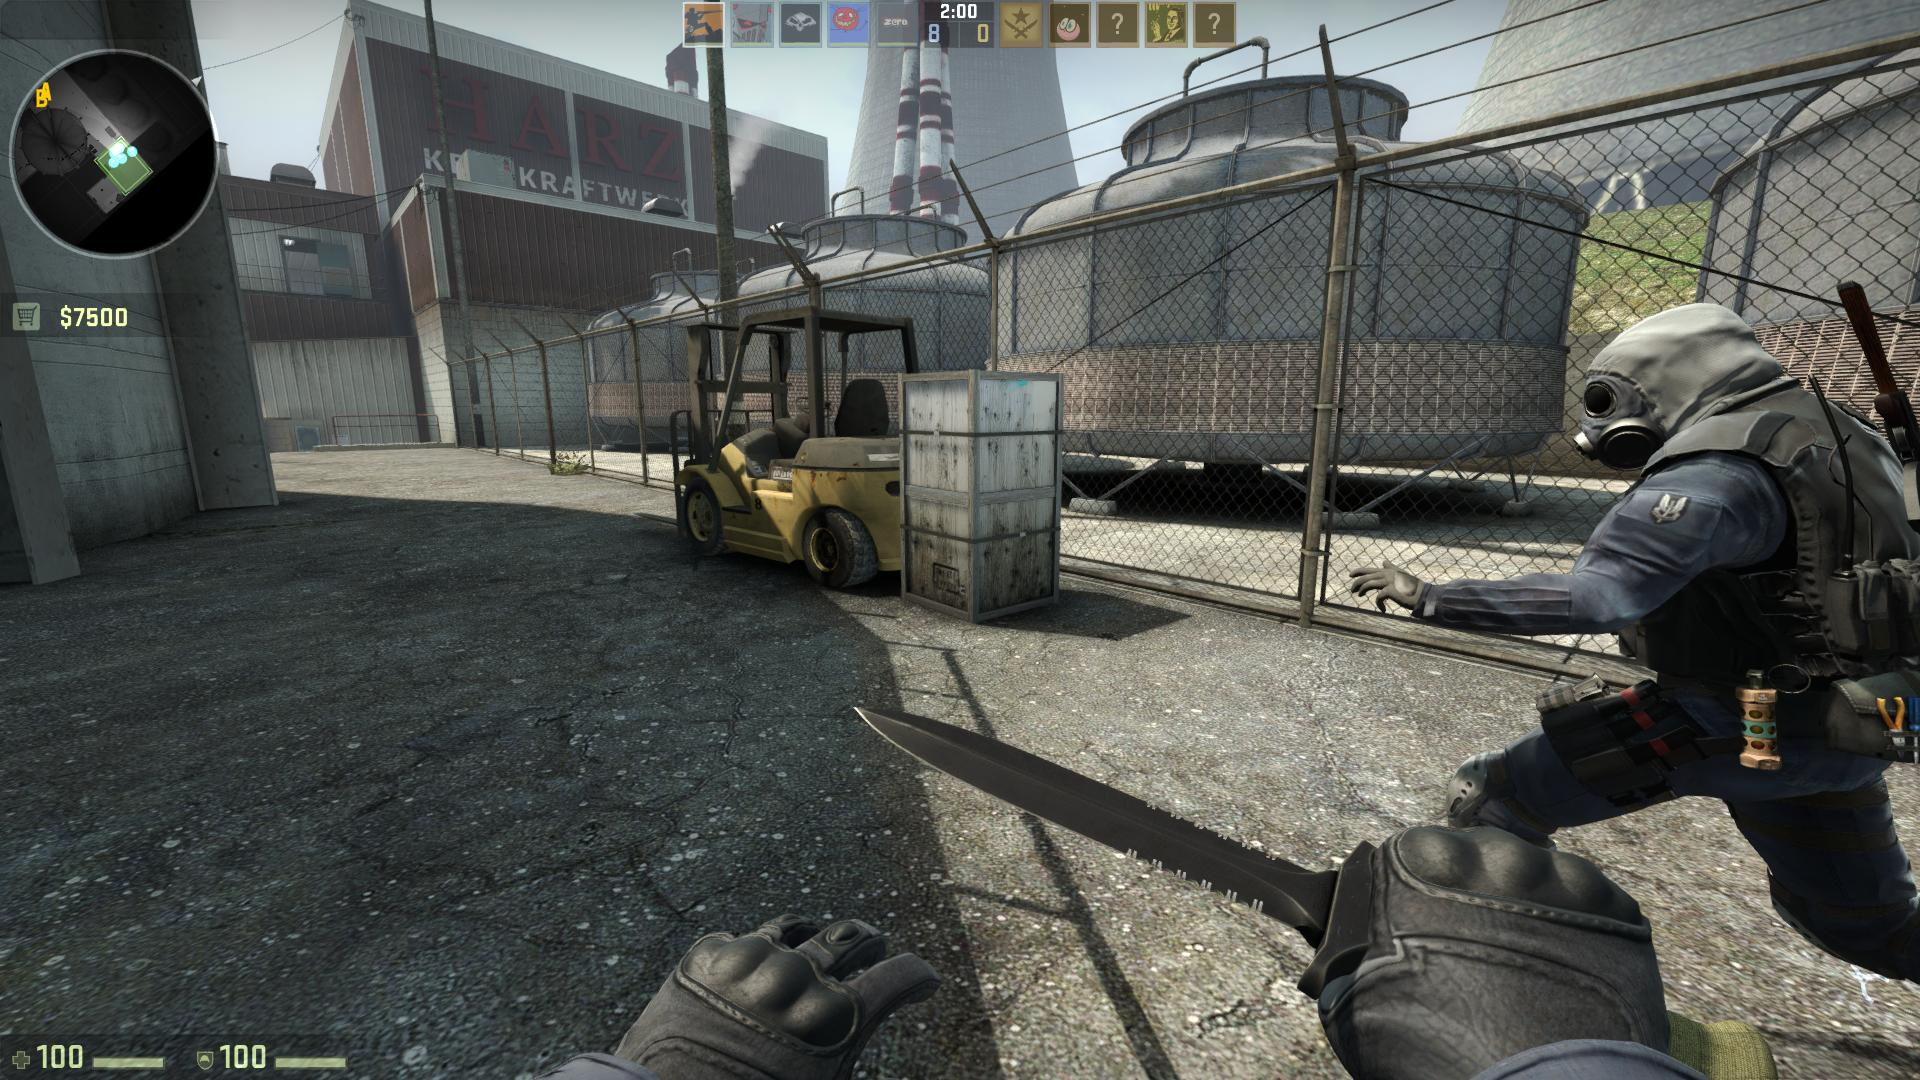c: (1437, 297, 1920, 855)
ch: (1571, 297, 1775, 469)
